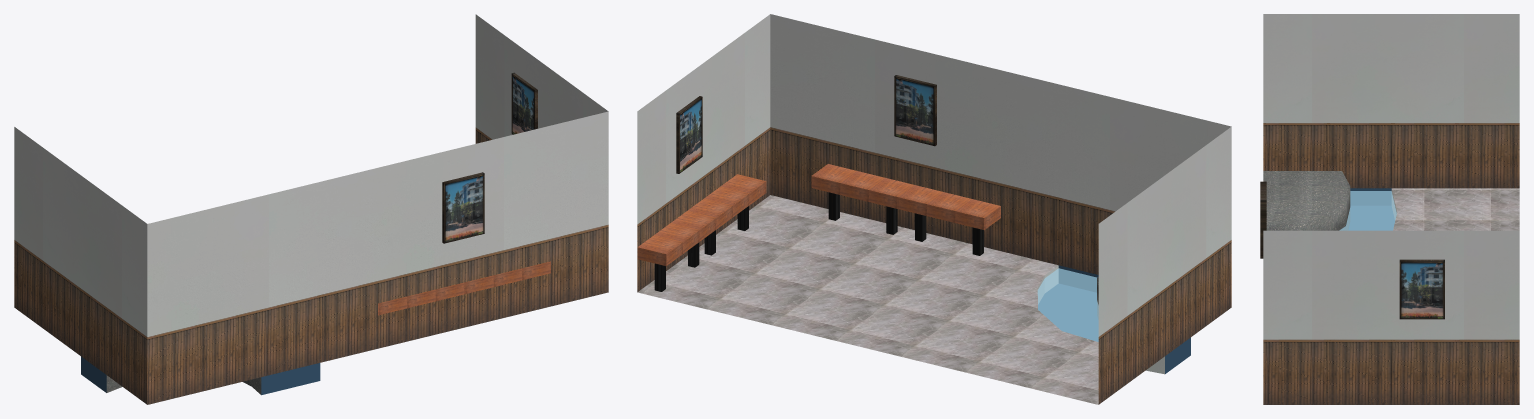
File: SH18-xtra.glb
The picture shows the model from 3 angles, left to right: view 1: azimuth 30°, elevation 25°; view 2: azimuth 150°, elevation 25°; view 3: azimuth 270°, elevation 25°; orthographic projection. The views are drawn at different scales.
Parts seen in each view (by area): view 1: Plane, Plane.008, Cube.004, Cube.003, Plane.007, Plane.006; view 2: Plane, Plane.008, Water, Plane.007, Plane.006, Plane.004, Cube.004, Plane.005, Cube.003; view 3: Plane, Plane.008, Cube.003, Water, Cube.004.
Part boxes in pixels (x1=…): Plane: x1=14, y1=14, x2=608, y2=395; Plane.008: x1=14, y1=127, x2=608, y2=404; Cube.004: x1=442, y1=172, x2=484, y2=243; Cube.003: x1=511, y1=72, x2=537, y2=134; Plane.007: x1=378, y1=282, x2=464, y2=315; Plane.006: x1=464, y1=261, x2=550, y2=294; Plane: x1=637, y1=14, x2=1231, y2=404; Plane.008: x1=637, y1=127, x2=1231, y2=404; Water: x1=1037, y1=268, x2=1098, y2=341; Plane.007: x1=898, y1=185, x2=1000, y2=255; Plane.006: x1=811, y1=164, x2=913, y2=234; Plane.004: x1=637, y1=210, x2=716, y2=291; Cube.004: x1=894, y1=75, x2=936, y2=146; Plane.005: x1=688, y1=174, x2=766, y2=255; Cube.003: x1=676, y1=96, x2=702, y2=173; Plane: x1=1263, y1=14, x2=1519, y2=339; Plane.008: x1=1263, y1=123, x2=1519, y2=404; Cube.003: x1=1399, y1=259, x2=1444, y2=319; Water: x1=1339, y1=191, x2=1396, y2=230; Cube.004: x1=1260, y1=181, x2=1266, y2=258.
Size of the model in its own units: 8.05 by 3.3 by 4.05.
Materials: 9 (7 with a texture image).
